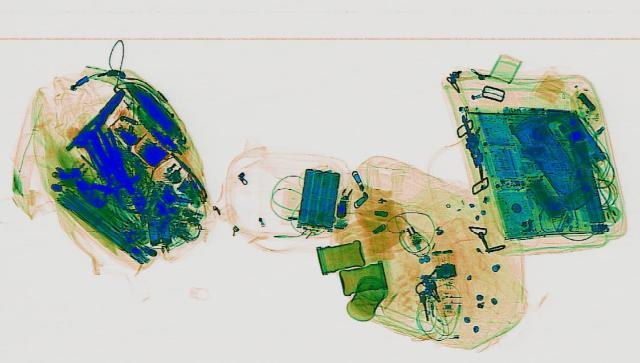Pliers: (64, 86, 128, 150)
